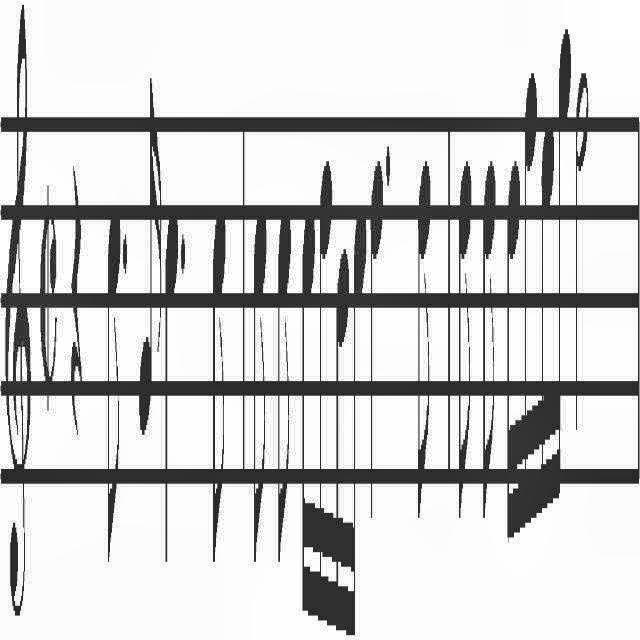Bass-clef: (2, 4, 34, 640)
Eighth-note: (203, 164, 227, 628), (480, 115, 500, 570), (415, 141, 437, 535), (274, 183, 294, 585), (249, 179, 269, 577), (101, 198, 121, 562), (456, 140, 474, 526)
Half-note: (573, 1, 593, 460)
Quarter-note: (368, 117, 384, 548), (164, 186, 178, 582)
Quarter-rest: (68, 144, 88, 483)
Sixteenth-note: (136, 39, 164, 534), (556, 0, 574, 554), (520, 57, 536, 571), (317, 144, 333, 640), (299, 175, 316, 640), (506, 114, 522, 582), (538, 95, 554, 560), (332, 236, 350, 640), (348, 186, 364, 630)
